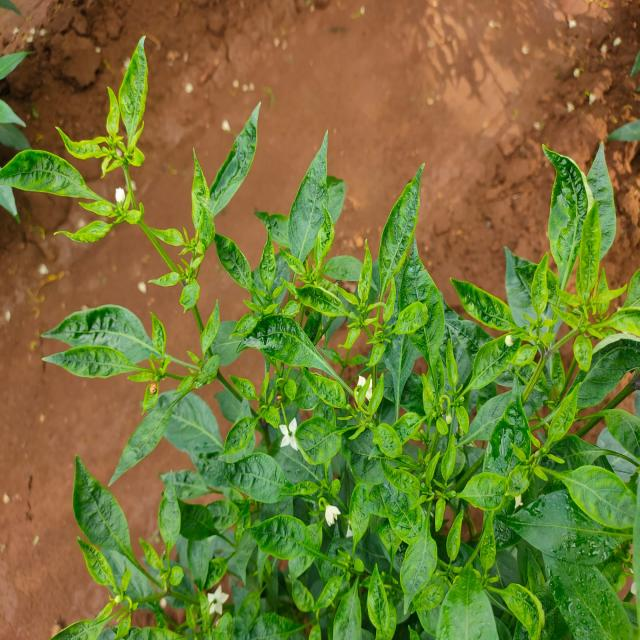Moko: (475, 178, 631, 414), (336, 350, 484, 520), (220, 173, 362, 329), (497, 420, 640, 557), (62, 39, 186, 184), (67, 288, 211, 405), (320, 212, 436, 352), (67, 523, 196, 640), (236, 343, 337, 469), (166, 142, 234, 307), (468, 553, 563, 640), (72, 174, 154, 257)
